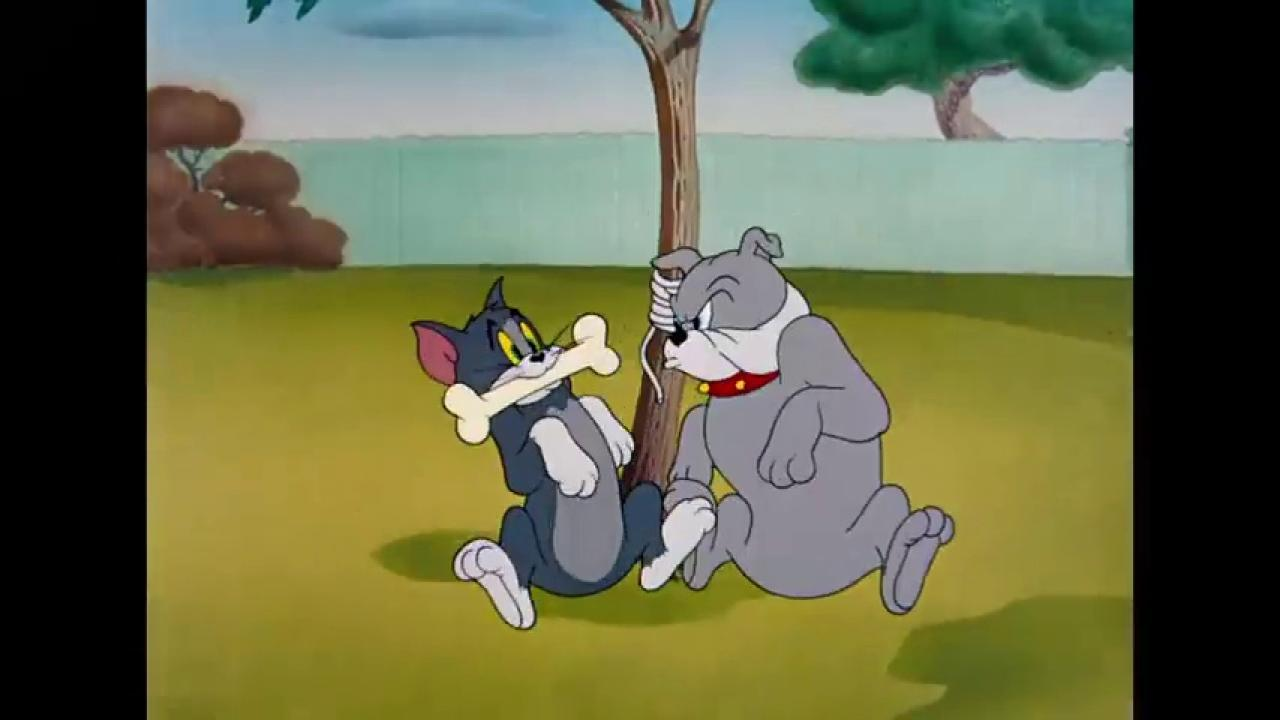Tom: (408, 276, 720, 633)
